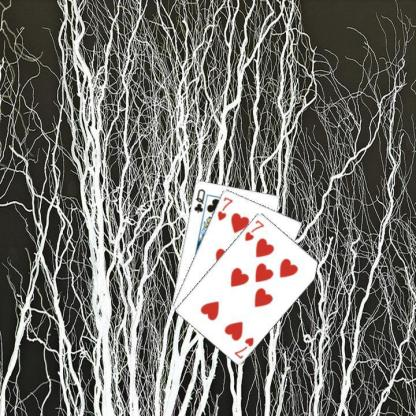7H: (242, 217, 265, 242), (232, 334, 254, 360), (215, 194, 234, 222)
QC: (192, 186, 206, 214)
